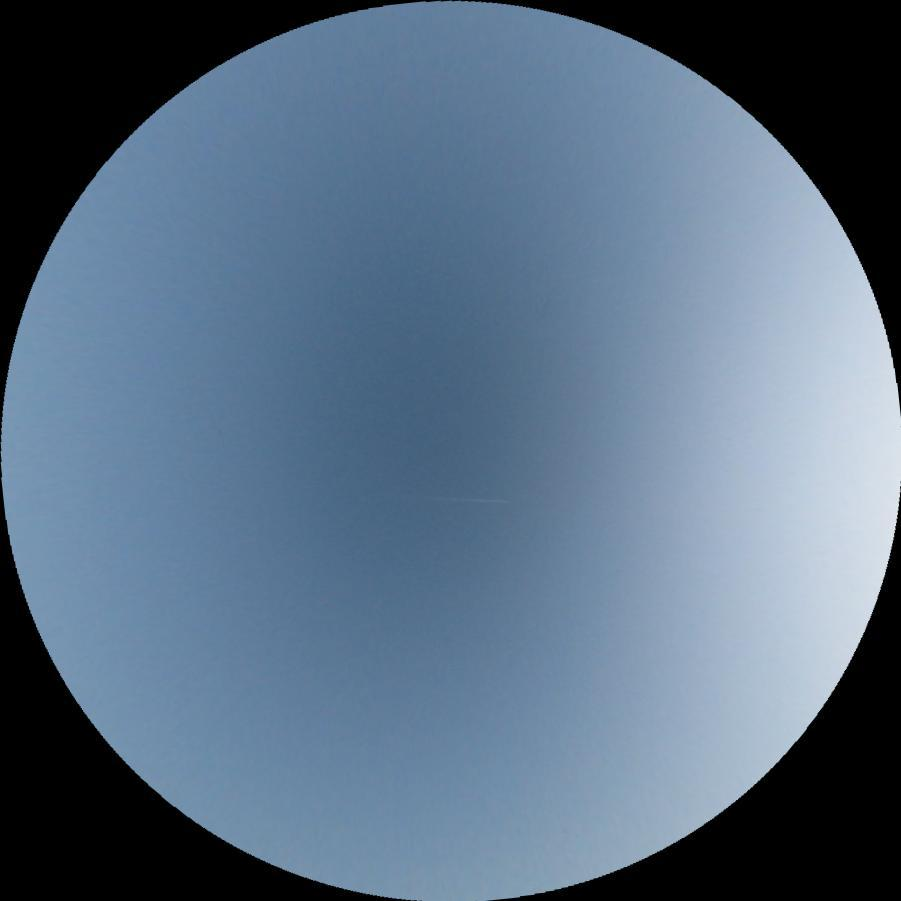contrail young: (416, 495, 511, 503)
